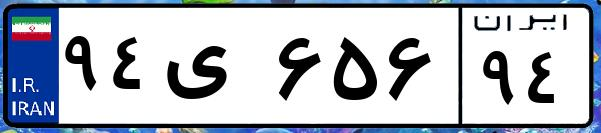4: (525, 38, 570, 115), (110, 28, 158, 98)
5: (330, 28, 385, 110)
6: (270, 28, 330, 110), (385, 28, 445, 110)
9: (57, 26, 110, 100), (475, 38, 525, 113)
ی: (158, 20, 270, 120)
